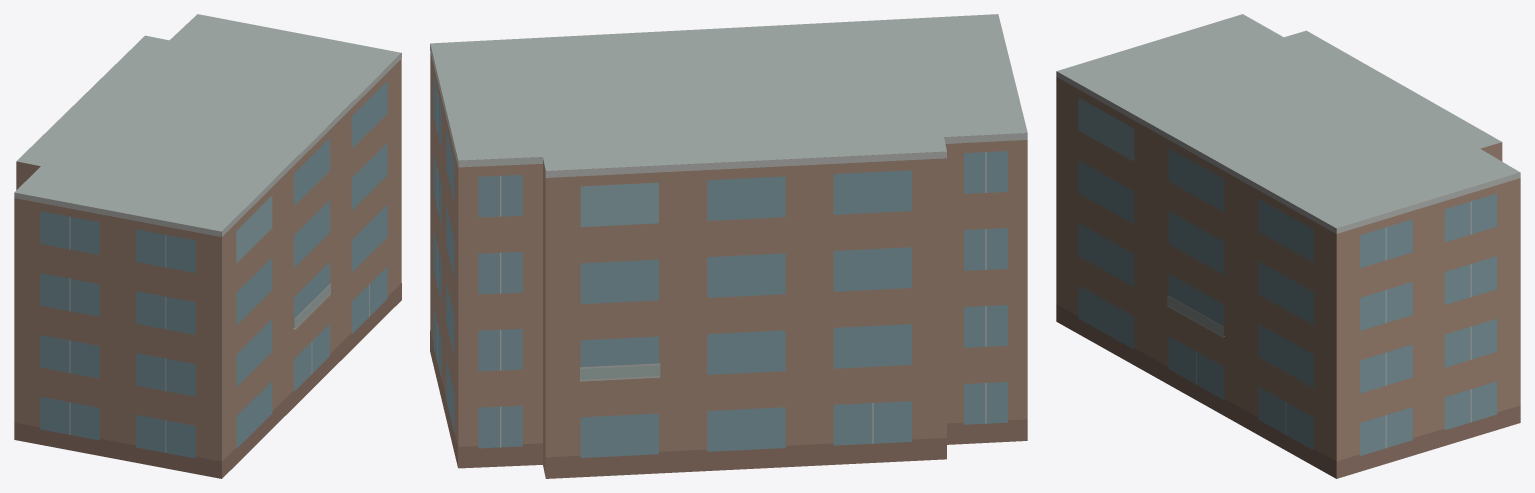
Rendered from survey-upis-32526305.glb.
The picture shows the model from 3 angles, left to right: view 1: azimuth 30°, elevation 25°; view 2: azimuth 150°, elevation 25°; view 3: azimuth 270°, elevation 25°; orthographic projection. The views are drawn at different scales.
Parts seen in each view (by area): view 1: survey-upis-32526305.tmp; view 2: survey-upis-32526305.tmp; view 3: survey-upis-32526305.tmp.
Boxes of the visible parts, left/top/right/bottom form: survey-upis-32526305.tmp: left=14, top=14, right=401, bottom=478; survey-upis-32526305.tmp: left=430, top=14, right=1027, bottom=478; survey-upis-32526305.tmp: left=1056, top=14, right=1520, bottom=478.
Size of the model in its own units: 20 by 10.89 by 18.29.
